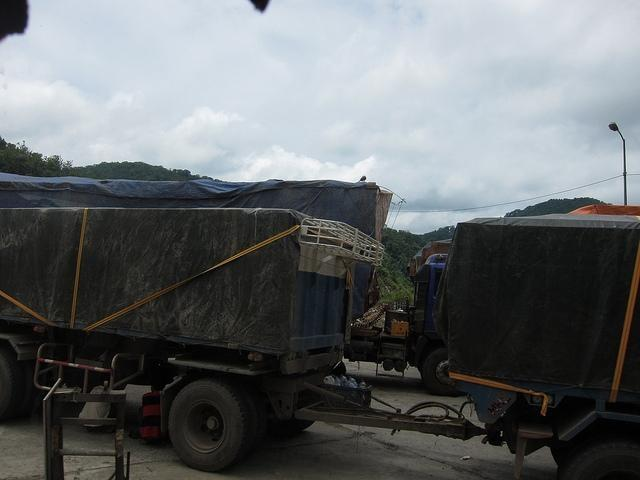truck: (0, 206, 640, 480), (0, 171, 395, 242), (353, 238, 464, 404)
